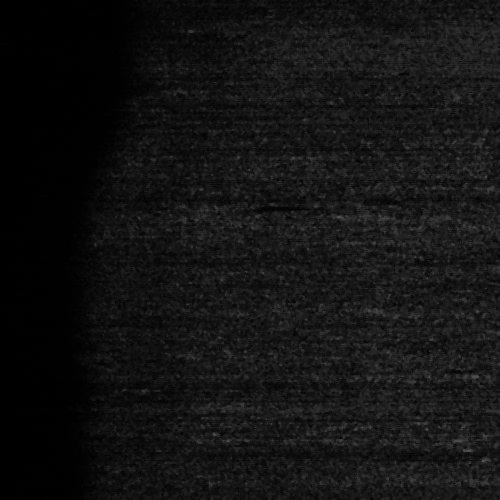object: (188, 202, 251, 209)
shadow: (219, 202, 308, 209)
